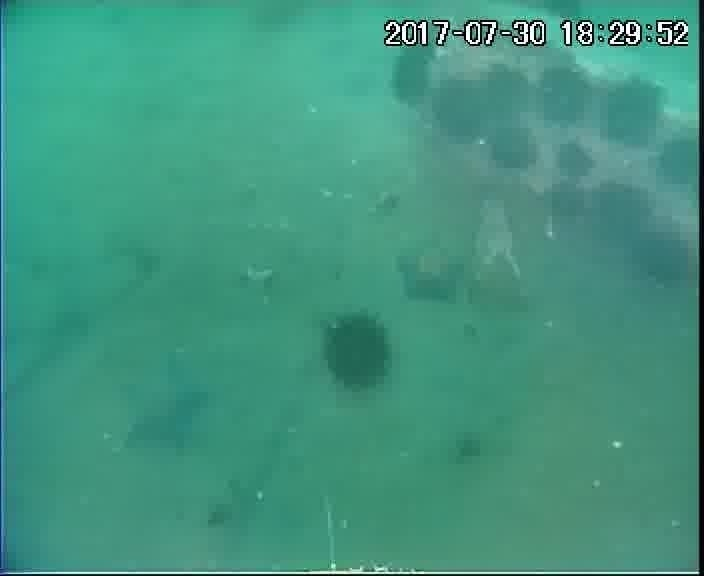echinus: (316, 310, 397, 396), (595, 75, 668, 150), (586, 179, 655, 248), (627, 225, 698, 292), (427, 75, 492, 146), (531, 61, 595, 130), (385, 40, 443, 111), (651, 128, 703, 197), (474, 61, 534, 120), (482, 122, 541, 177), (542, 179, 592, 226), (550, 138, 599, 184)
starfish: (117, 355, 213, 456), (392, 239, 471, 308)
